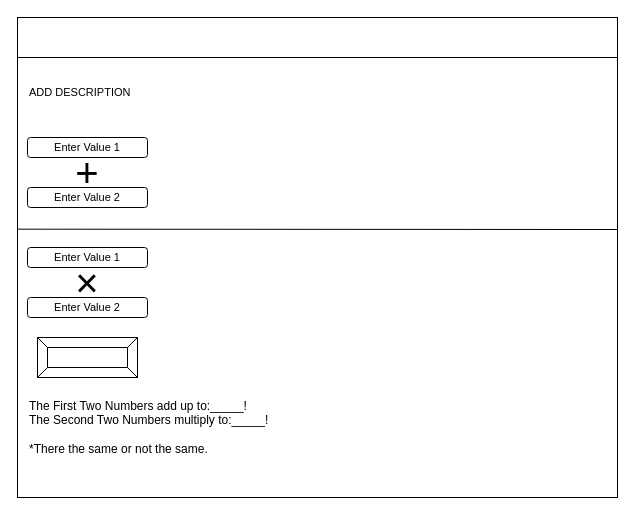
This 636x515 diagram has some shape labels left out. Each missing label, with the centre of its shape:
"Calculate" belongs at point 87,357.
"Equation Evaluator" belongs at point 317,37.
